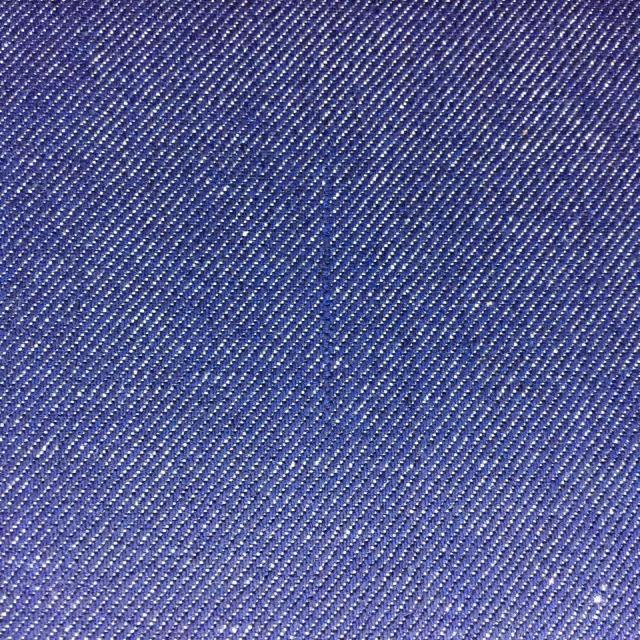Line: (320, 162, 338, 387)
